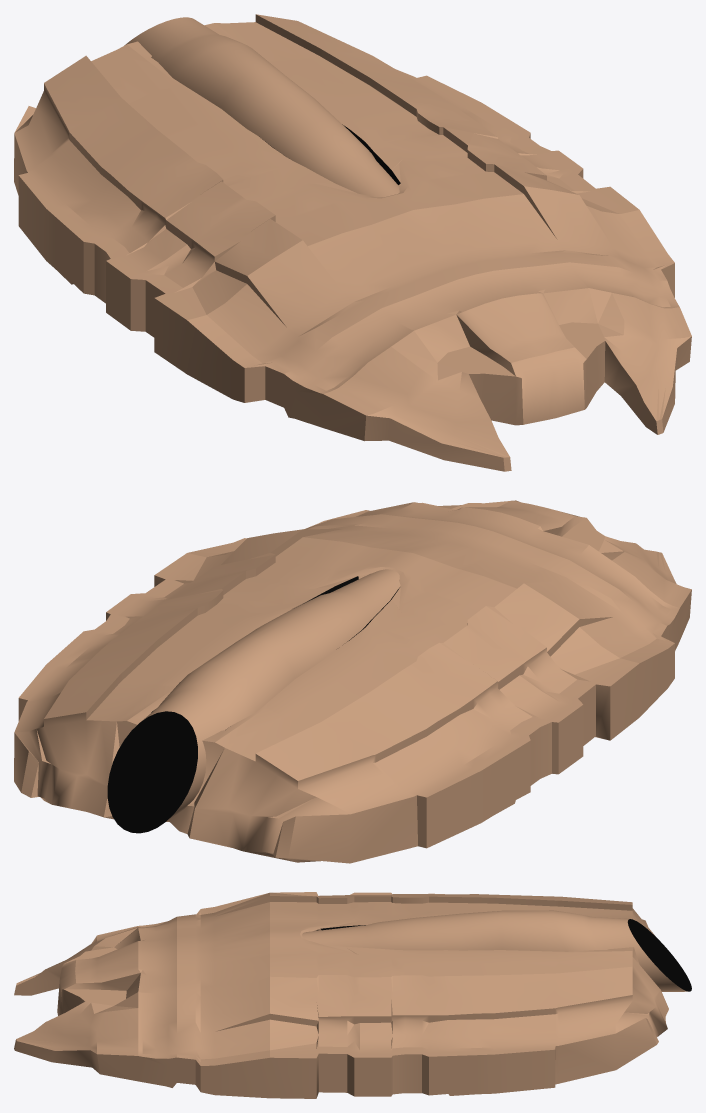
File: Corvette.fbx
3 renders of one model, top to bottom at view 1: azimuth 30°, elevation 25°; view 2: azimuth 150°, elevation 25°; view 3: azimuth 270°, elevation 25°, orthographic. The views are drawn at different scales.
Parts seen in each view (by area): view 1: Hull, Cylinder; view 2: Hull, Cylinder; view 3: Hull, Cylinder.
Boxes of the visible parts, x1,y1,x2,y2 form: Hull: (14, 14, 691, 471); Cylinder: (124, 17, 399, 197); Hull: (14, 500, 691, 863); Cylinder: (107, 569, 400, 833); Hull: (14, 892, 668, 1098); Cylinder: (302, 910, 691, 991).
Bounding box in the file's own units: 152 × 46.18 × 261.
